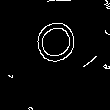O_E: (32, 11, 88, 68)
